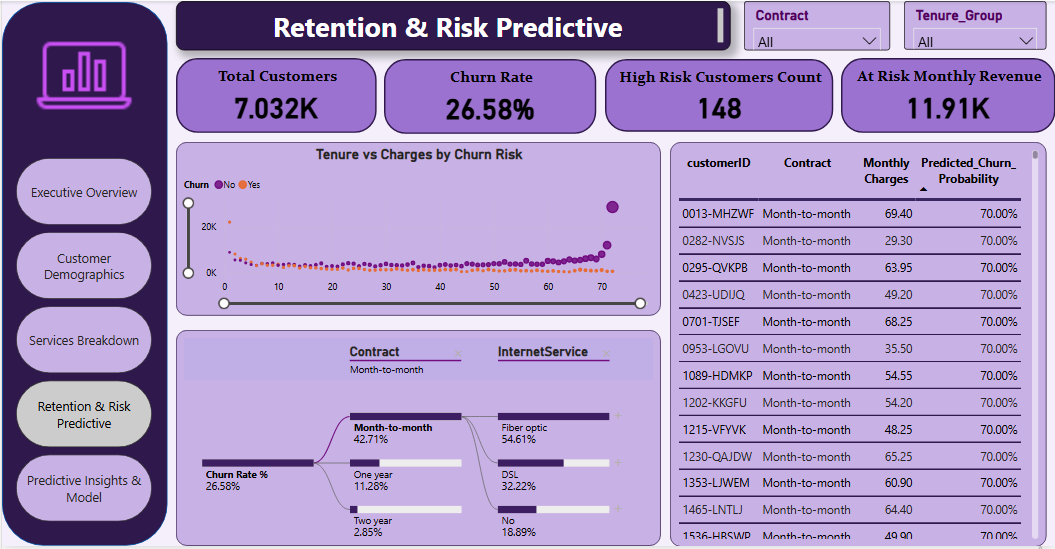

The page's visual inventory and layout, read from the dashboard file:
{"tool":"powerbi","page":{"name":" Retention & Risk Predictive","canvas":[1450,750],"ordinal":3},"visuals":[{"type":"textbox","box":[239.2,0,763.3,67.9],"z":0},{"type":"slicer","fields":{"Values":["Data_Transformed.Contract"]},"box":[1020.2,0,200.8,67.9],"z":1000},{"type":"slicer","fields":{"Values":["Data_Transformed.TenureGroup"]},"box":[1240.5,0,196.3,67.4],"z":2000},{"type":"scatterChart","title":"Tenure vs Charges by Churn Risk","fields":{"Series":["Data_Transformed.Churn"],"Size":["Sum(Data_Transformed.TotalCharges)"],"X":["Data_Transformed.tenure"],"Y":["Sum(Data_Transformed.MonthlyCharges)"]},"box":[239.2,193.4,667.3,239.2],"z":3000},{"type":"tableEx","fields":{"Values":["Data_Transformed.customerID","Data_Transformed.Contract","Sum(Data_Transformed.MonthlyCharges)","Sum(Data_Transformed.Predicted_Churn_Probability)"]},"box":[918.3,193.4,518.2,556.6],"z":4000},{"type":"decompositionTreeVisual","title":"Root Cause Risk Pathways","fields":{"Analyze":["_Measures.Churn Rate %"],"ExplainBy":["Data_Transformed.Contract","Data_Transformed.InternetService","Data_Transformed.PaymentMethod","Data_Transformed.TechSupport"]},"box":[239.2,453.2,667.3,296.8],"z":5000},{"type":"advanceCardE03760C5AB684758B56AA29F9E6C257B","title":"Total Customers","fields":{"mainMeasure":["_Measures.Total Customers"]},"box":[239.2,78.2,276.1,103.3],"z":6000},{"type":"advanceCardE03760C5AB684758B56AA29F9E6C257B","title":"Churn Rate","fields":{"mainMeasure":["_Measures.Churn Rate %"]},"box":[526.1,79.2,292.3,103.3],"z":7000},{"type":"advanceCardE03760C5AB684758B56AA29F9E6C257B","title":"High Risk Customers Count","fields":{"mainMeasure":["_Measures.High Risk Customers Count"]},"box":[829.2,80.2,314.5,100.4],"z":8000},{"type":"advanceCardE03760C5AB684758B56AA29F9E6C257B","title":"At Risk Monthly Revenue","fields":{"mainMeasure":["_Measures.At Risk Monthly Revenue"]},"box":[1154.5,78.2,295.3,103.3],"z":9000},{"type":"shape","box":[0,1.3,227.7,747.9],"z":10000},{"type":"image","box":[44.5,35,137.5,136.1],"z":11000},{"type":"pageNavigator","box":[18.9,215.6,187.3,502.6],"z":12000}]}

Visuals, with their boxes in screenshot pixels (x1, y1, x2, y2), scaled from the page's 1450x750 canvas onto the 1055x549 screenshot:
textbox: 174, 0, 729, 50
slicer - Data_Transformed.Contract: 742, 0, 888, 50
slicer - Data_Transformed.TenureGroup: 903, 0, 1045, 49
"Tenure vs Charges by Churn Risk" scatterChart: 174, 142, 660, 317
tableEx - Data_Transformed.customerID x Data_Transformed.Contract: 668, 142, 1045, 548
"Root Cause Risk Pathways" decompositionTreeVisual: 174, 332, 660, 548
"Total Customers" advanceCardE03760C5AB684758B56AA29F9E6C257B: 174, 57, 375, 133
"Churn Rate" advanceCardE03760C5AB684758B56AA29F9E6C257B: 383, 58, 595, 134
"High Risk Customers Count" advanceCardE03760C5AB684758B56AA29F9E6C257B: 603, 59, 832, 132
"At Risk Monthly Revenue" advanceCardE03760C5AB684758B56AA29F9E6C257B: 840, 57, 1054, 133
shape: 0, 1, 166, 548
image: 32, 26, 132, 125
pageNavigator: 14, 158, 150, 526
